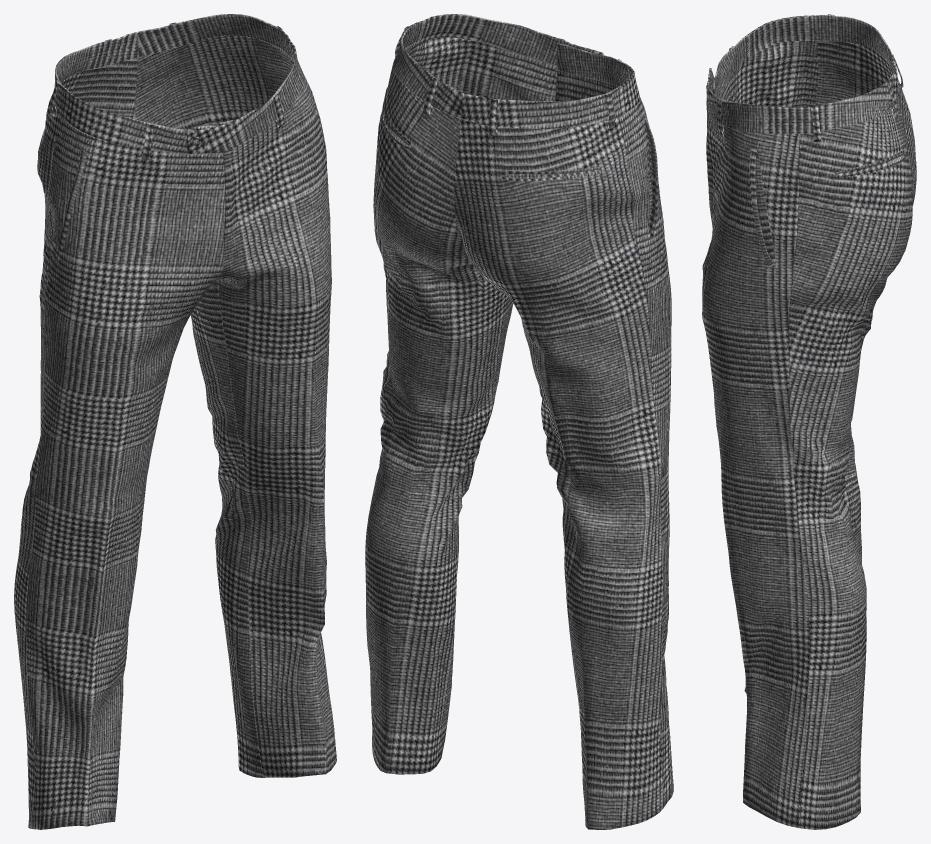
Rendered from TrousersUpdated.glb.
3 views of the same model, side by side, from view 1: azimuth 30°, elevation 25°; view 2: azimuth 150°, elevation 25°; view 3: azimuth 270°, elevation 25° (orthographic). The views are drawn at different scales.
Parts seen in each view (by area): view 1: Mens_Trousers_1; view 2: Mens_Trousers_1; view 3: Mens_Trousers_1.
Part boxes in pixels (x1,y1,x2,y2): Mens_Trousers_1: (14, 14, 336, 829); Mens_Trousers_1: (365, 14, 673, 829); Mens_Trousers_1: (702, 14, 916, 829).
Bounding box in the file's own units: 0.0596 × 0.1435 × 0.0388.
Materials: 1 (1 with a texture image).
